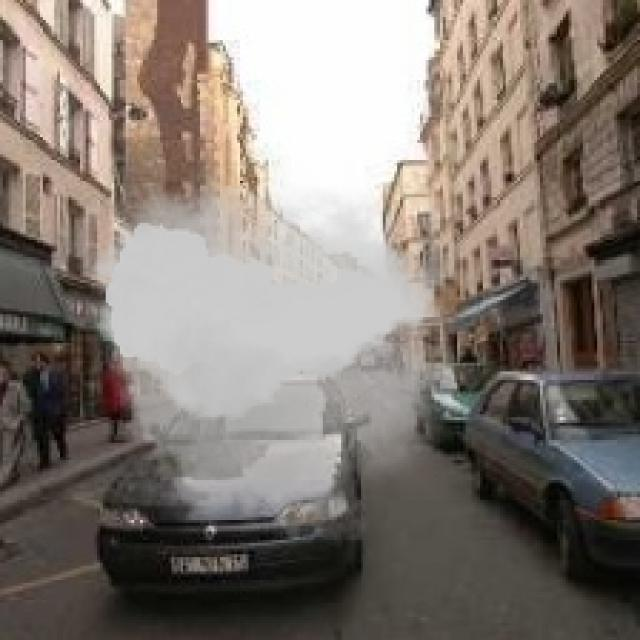Smoke: (80, 154, 460, 566)
